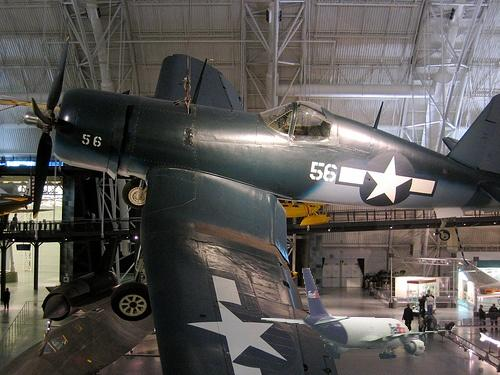tampered: (262, 269, 456, 359)
